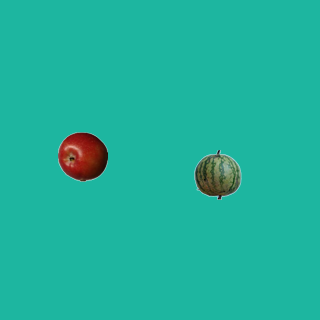Apple Braeburn: (57, 131, 107, 181)
Watermelon: (192, 149, 242, 199)
